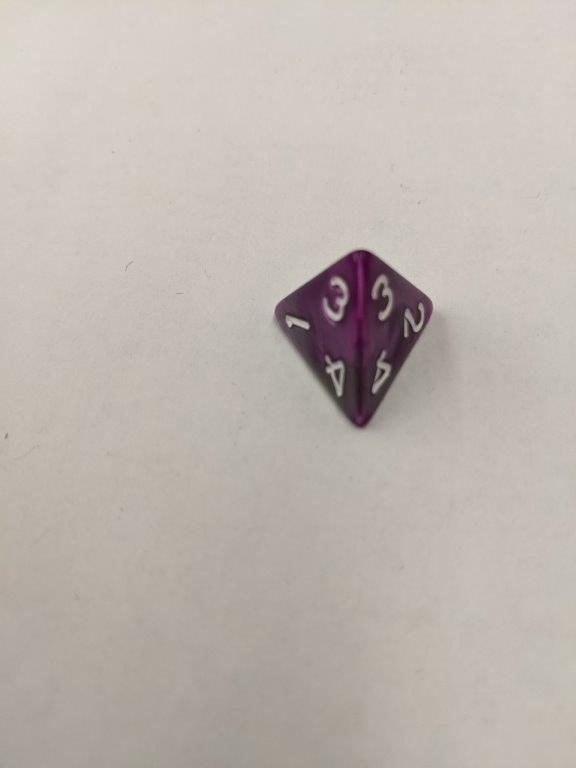d4-3: (274, 248, 436, 431)
